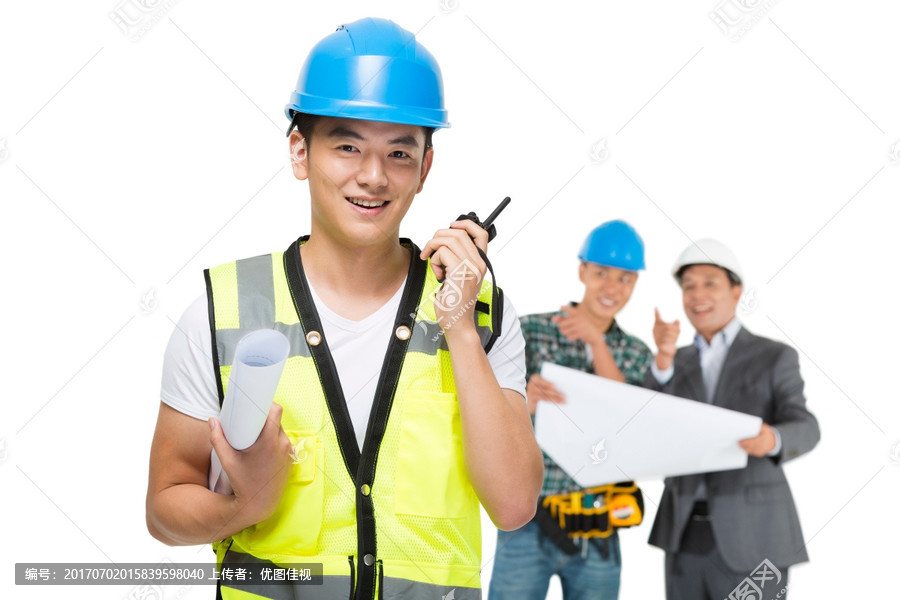safetyhat: (186, 4, 520, 556), (506, 204, 669, 422)
